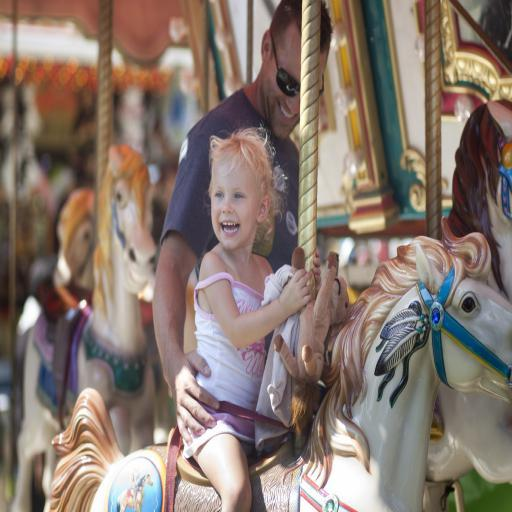Horse: (50, 214, 512, 512), (10, 140, 158, 512), (424, 99, 512, 484)
